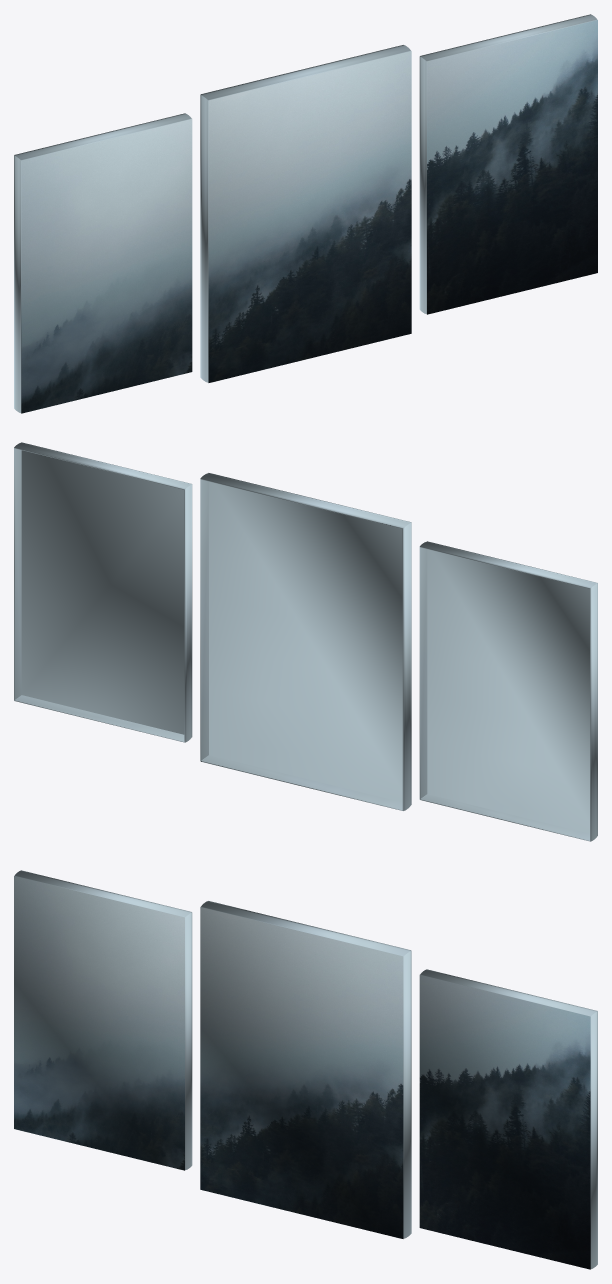
The model's file is Set of pictures.glb.
3 renders of one model, top to bottom at view 1: azimuth 30°, elevation 25°; view 2: azimuth 150°, elevation 25°; view 3: azimuth 330°, elevation 25°, orthographic.
Parts seen in each view (by area): view 1: Cube.002; view 2: Cube.002; view 3: Cube.002.
Part boxes in pixels (x1,y1,x2,y2): Cube.002: (14,14,597,413); Cube.002: (14,442,597,841); Cube.002: (14,870,597,1269).
Bounding box in the file's own units: 2.15 × 1.01 × 0.0529.
Materials: 1 (1 with a texture image).
